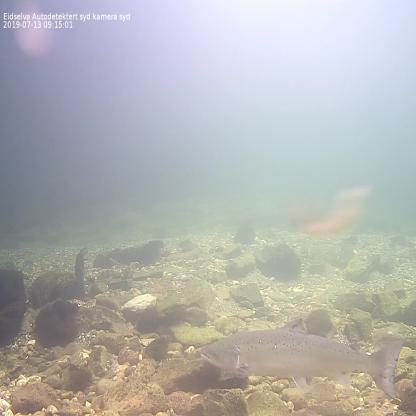salmon: (199, 316, 404, 402)
